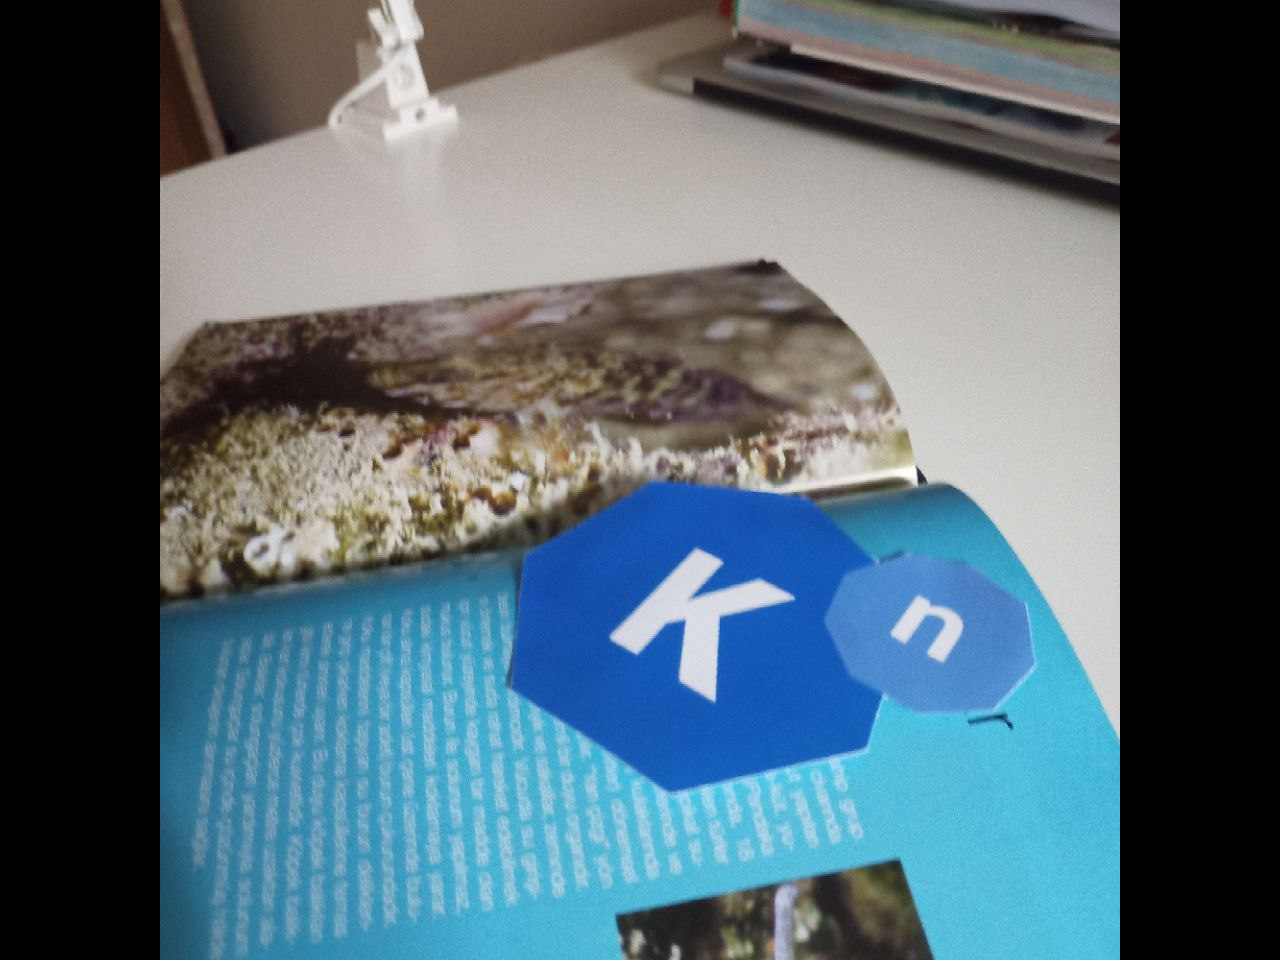knative: (502, 480, 1037, 794)
